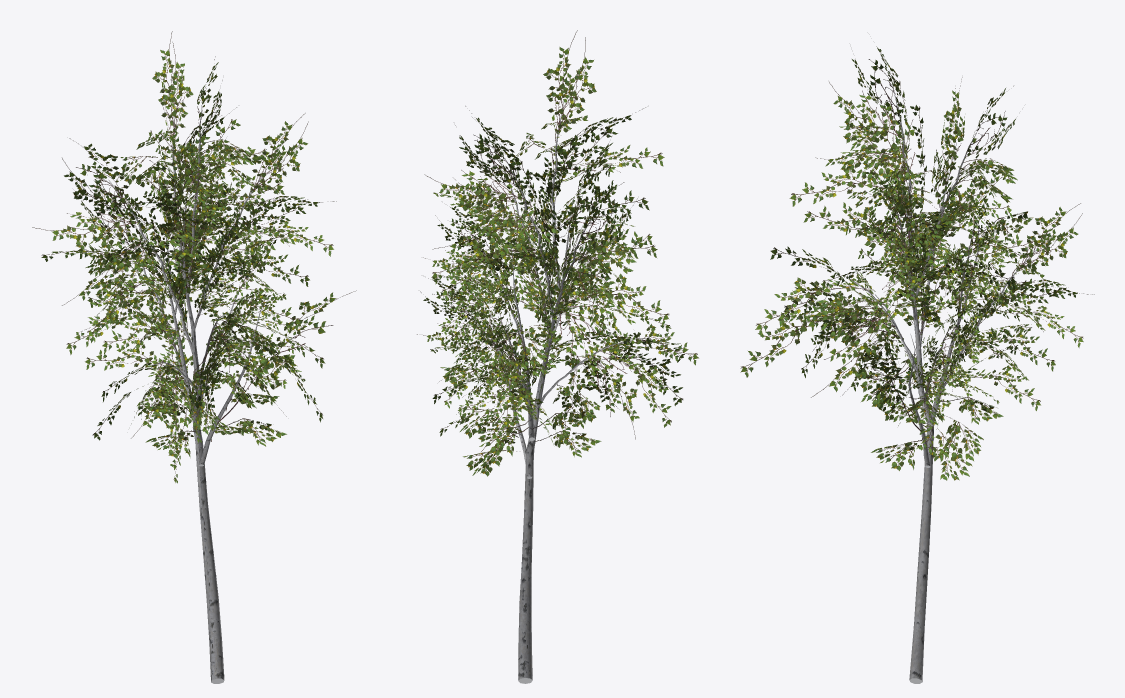
Rendered from birch_lod0.glb.
3 views of the same model, side by side, from view 1: azimuth 30°, elevation 25°; view 2: azimuth 150°, elevation 25°; view 3: azimuth 270°, elevation 25° (orthographic). The views are drawn at different scales.
Parts seen in each view (by area): view 1: birch_lod0_foliage, birch_lod0_bark; view 2: birch_lod0_foliage, birch_lod0_bark; view 3: birch_lod0_foliage, birch_lod0_bark.
Part boxes in pixels (box(x1,y1,x2,y2)): birch_lod0_foliage: box(32, 31, 356, 483); birch_lod0_bark: box(109, 101, 269, 683); birch_lod0_foliage: box(417, 30, 698, 476); birch_lod0_bark: box(457, 99, 631, 683); birch_lod0_foliage: box(740, 46, 1094, 480); birch_lod0_bark: box(848, 88, 1038, 683).
Size of the model in its own units: 2.16 by 4.94 by 2.61.
2 materials, 2 textured.
